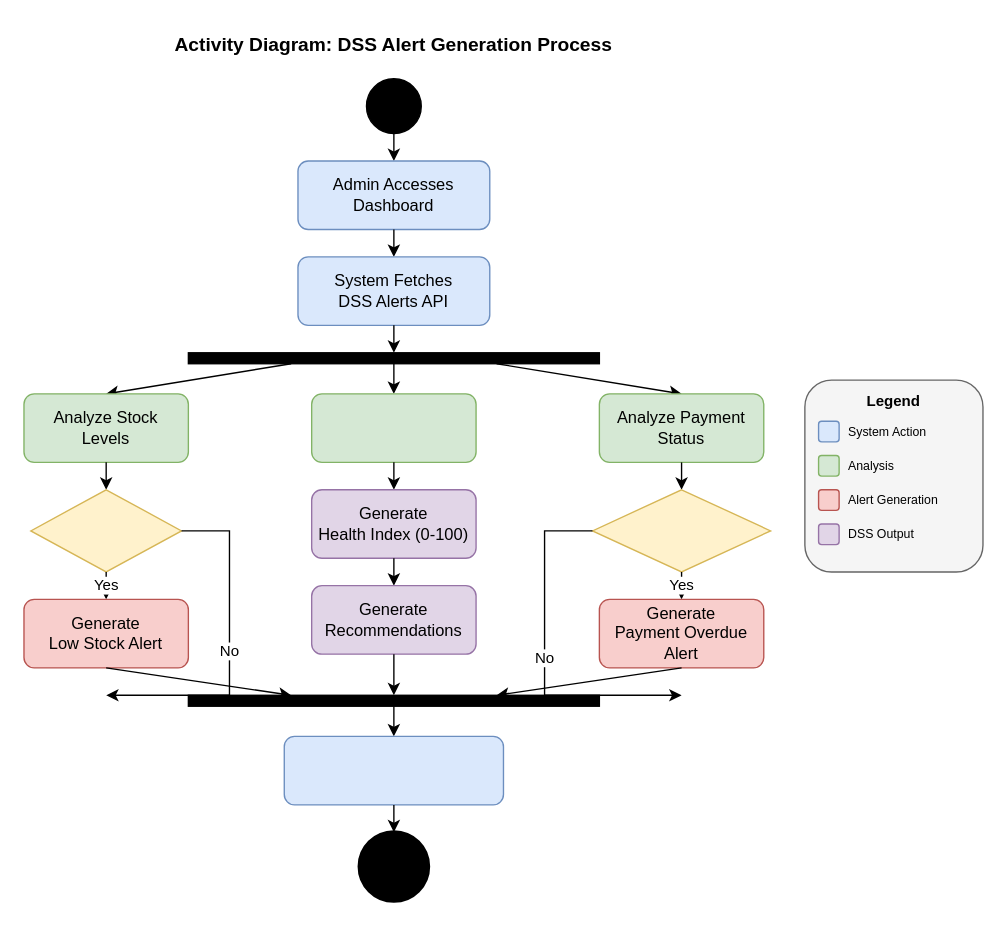
Some shapes in this 1007 by 926 pixel diagram are drawn without their labels. Here are the shapes that lost their labels. From the top down, the centre of each, then its label:
point 393,427: Calculate Health Score
point 105,530: Stock < 50?
point 681,530: Overdue > 1 day?
point 393,770: Display DSS Dashboard with Alerts & Insights
